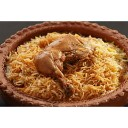briyani: (9, 41, 118, 98)
